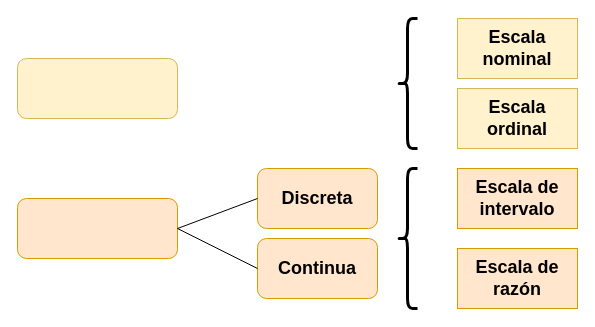
This 595x327 diagram has some shape labels left out. Here are the shapes that lost their labels. From the top down, the centre of each, then its label:
point (97, 88): Cualitativa
point (97, 228): Cuantitativa
